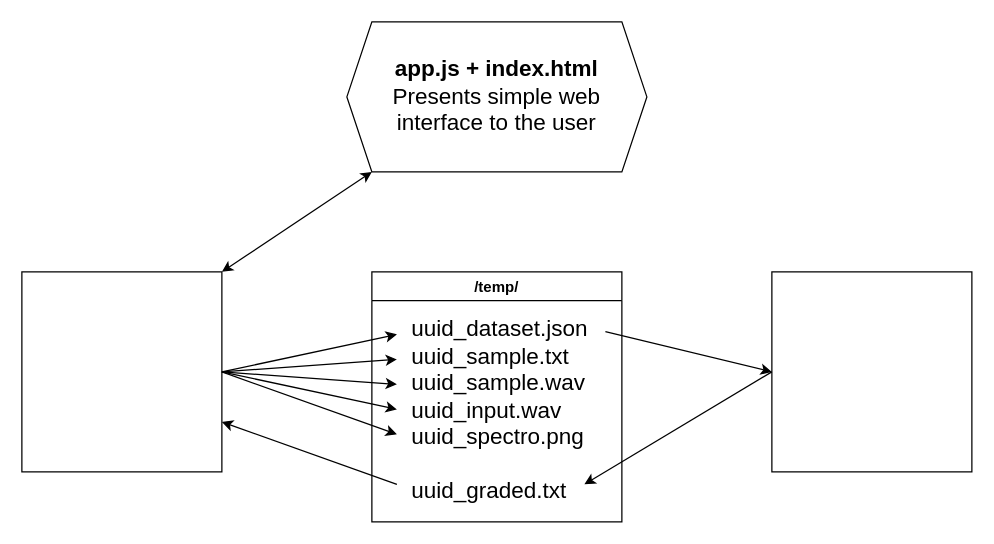
This 994x544 diagram has some shape labels left out. The centre of each missing label's shape, as x and y in pixels:
"app.py Back-end written in Flask" goes at (x=121, y=371).
"asr.py Constantly awaits modification to dataset.json" goes at (x=871, y=371).
